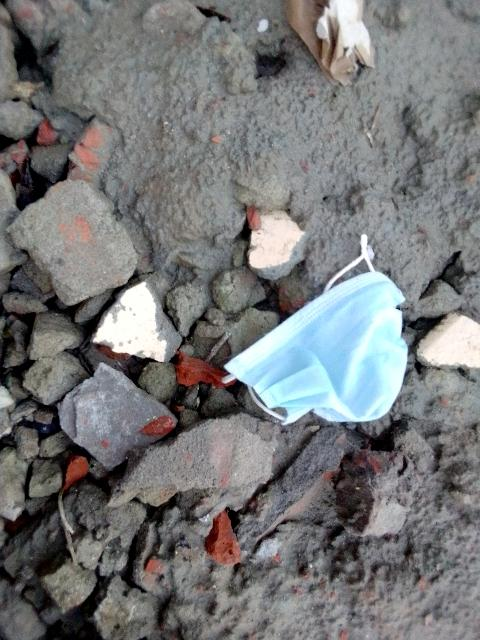mask: (232, 258, 416, 456)
